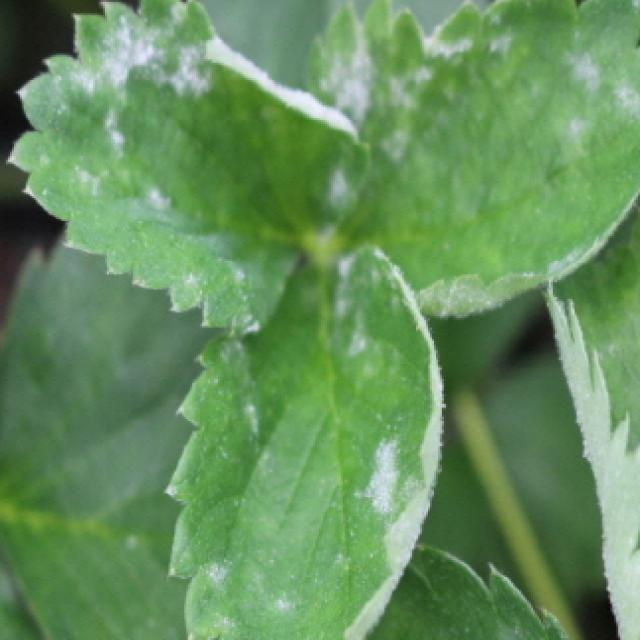Powdery Mildew Leaf: (4, 0, 370, 333), (164, 241, 448, 640), (298, 0, 640, 321), (545, 202, 640, 640)
